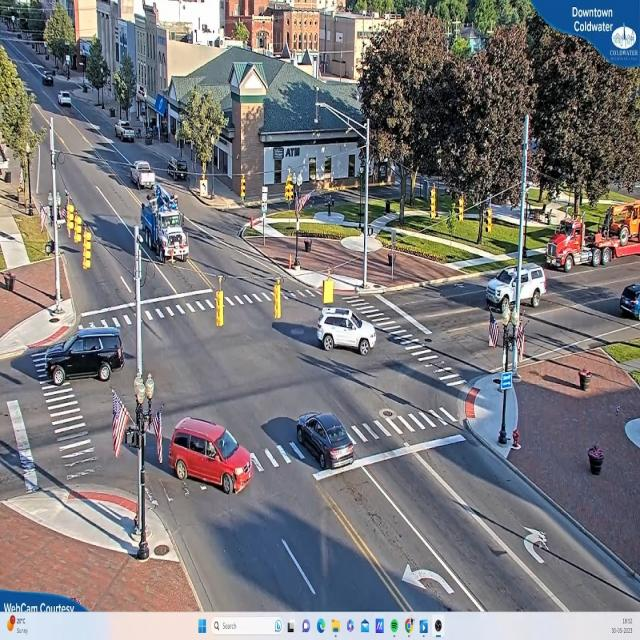car: (169, 416, 255, 495), (40, 327, 126, 391), (294, 411, 355, 468), (487, 265, 547, 312), (317, 308, 375, 356), (619, 281, 640, 318), (132, 160, 157, 189), (117, 121, 137, 145), (58, 91, 72, 107), (45, 76, 56, 87)
truck: (543, 218, 639, 264), (143, 194, 194, 273)
